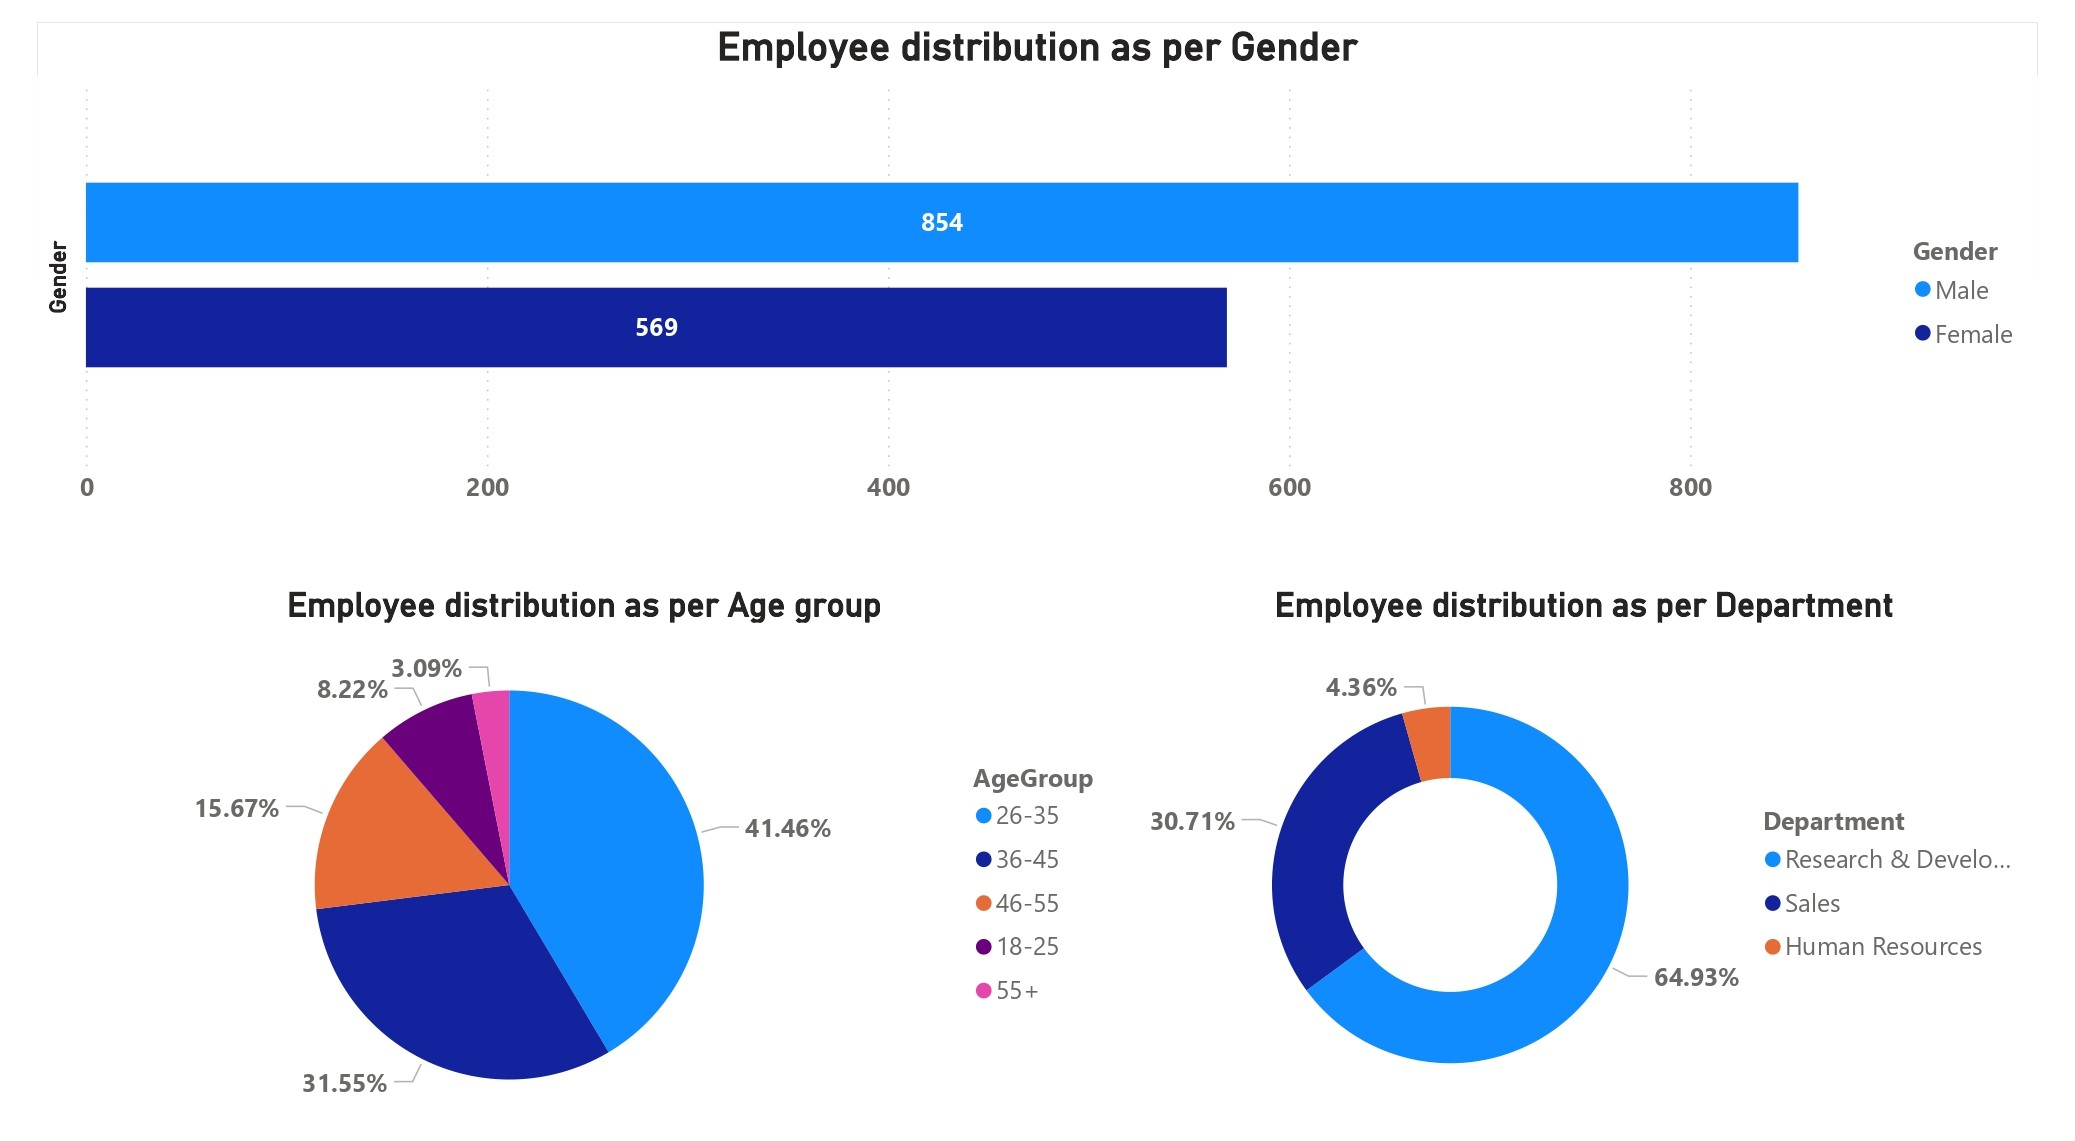

The page's visual inventory and layout, read from the dashboard file:
{"tool":"powerbi","page":{"name":"Page 1","canvas":[1280,720],"ordinal":0},"visuals":[{"type":"pieChart","title":"Employee distribution as per Age group","fields":{"Y":["CountNonNull(Cleaned data.AgeGroup)"],"Category":["Cleaned data.AgeGroup"]},"box":[0,360,699.8,360],"z":0},{"type":"barChart","title":"Employee distribution as per Gender","fields":{"Category":["Cleaned data.Gender"],"Y":["CountNonNull(Cleaned data.Gender)"],"Series":["Cleaned data.Gender"]},"box":[0,0,1280.2,318.2],"z":1000},{"type":"donutChart","title":"Employee distribution as per Department","fields":{"Y":["CountNonNull(Cleaned data.Department)"],"Category":["Cleaned data.Department"]},"box":[699.8,360,580.3,360],"z":2000}]}

Visuals, with their boxes in screenshot pixels (x1, y1, x2, y2), scaled from the page's 1280x720 canvas onto the 2075x1141 screenshot:
"Employee distribution as per Age group" pieChart: locate(0, 570, 1134, 1140)
"Employee distribution as per Gender" barChart: locate(0, 0, 2074, 504)
"Employee distribution as per Department" donutChart: locate(1134, 570, 2074, 1140)
